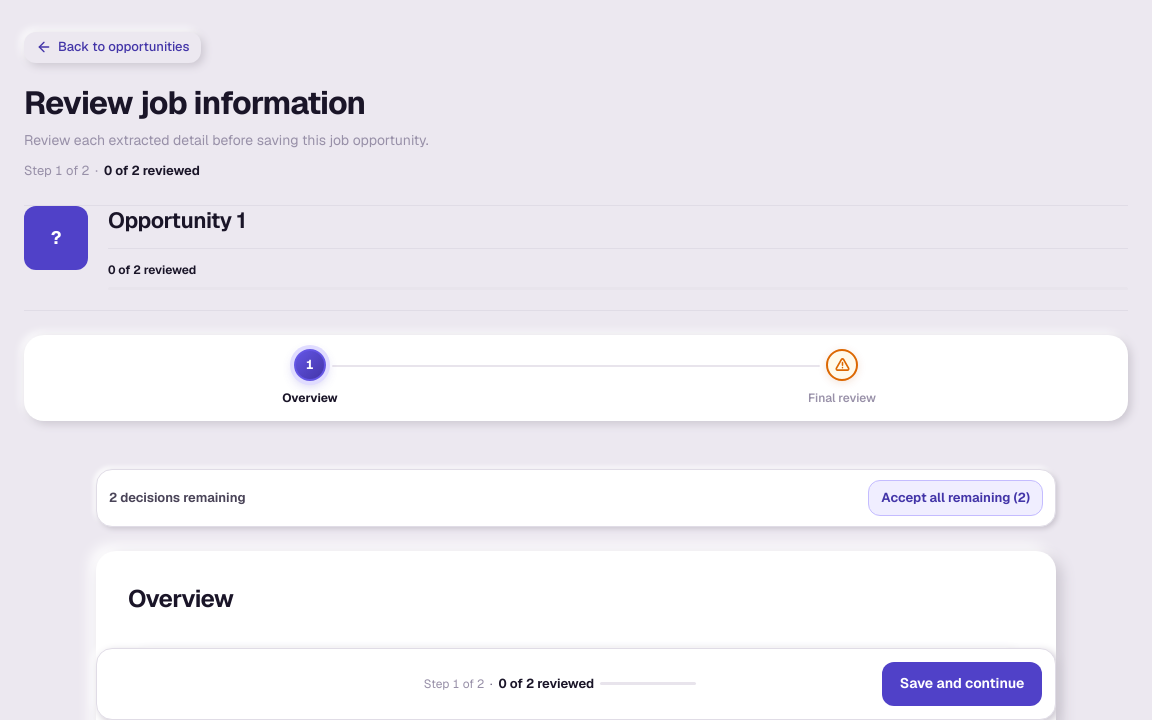
Test: ReviewPage › refetches and announces a stale-mutation error from accept all
The image size is (1152, 720).
What coordinates should you click on to do the following:
click the button "Accept all remaining (2)"
I would click on:
 (956, 498)
Its box is [868,480,1043,516].
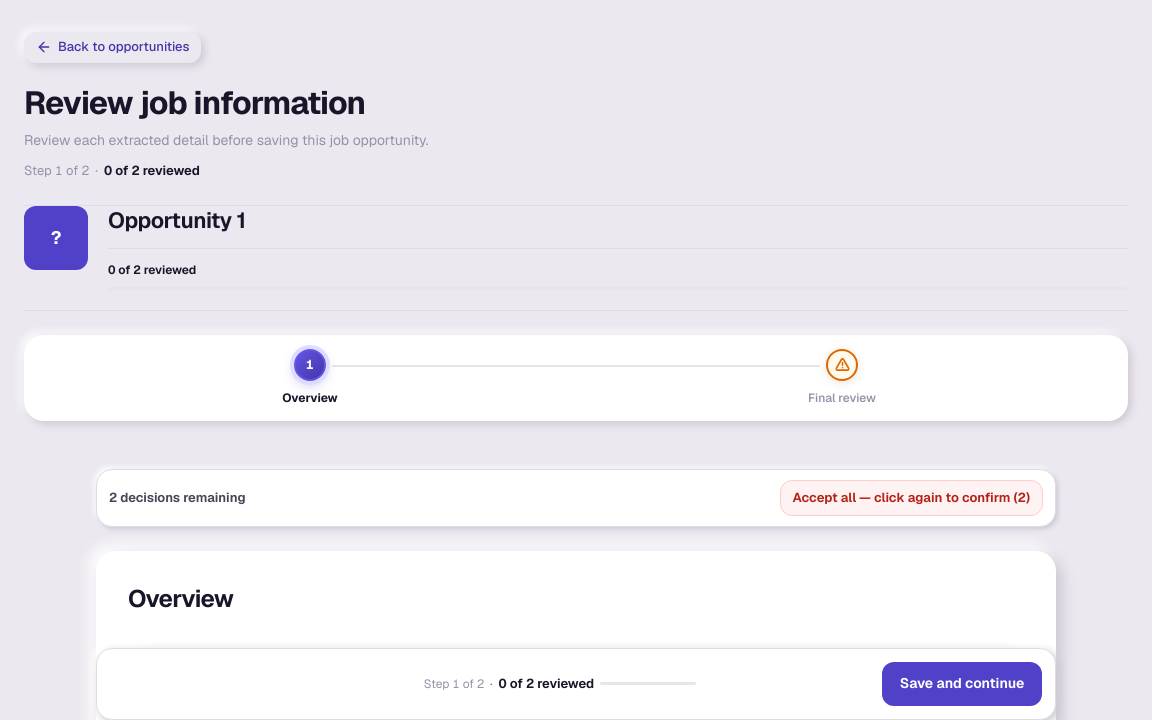
What coordinates should you click on to do the following:
click the button "Accept all — click again to confirm (2)"
I would click on:
 (911, 498)
Its box is [780,480,1043,516].
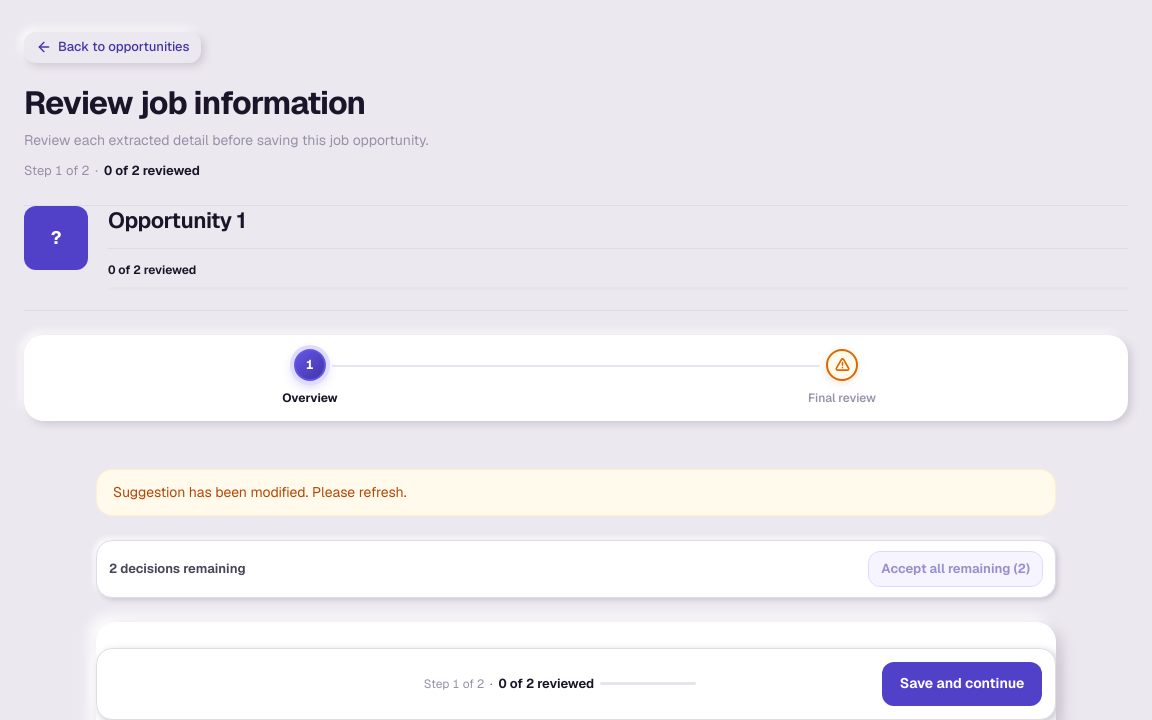
expect the text "Suggestion has been modified. Please refresh." is shown: met, box [96,469,1056,516]
